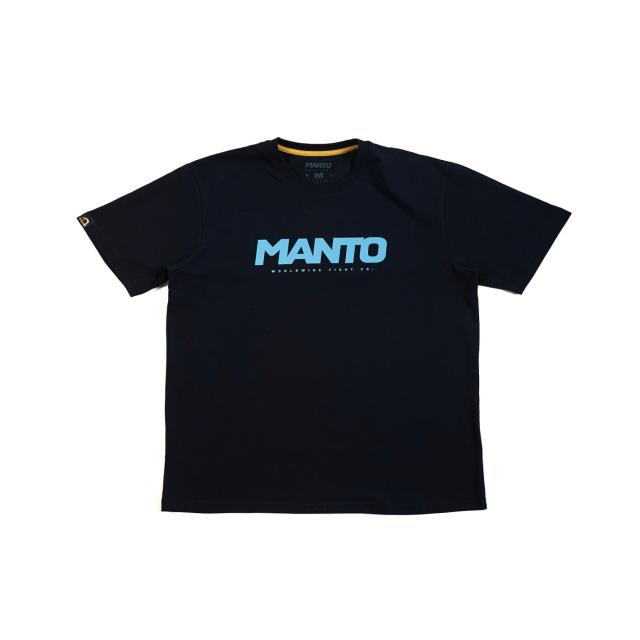shirt: (81, 138, 569, 509)
